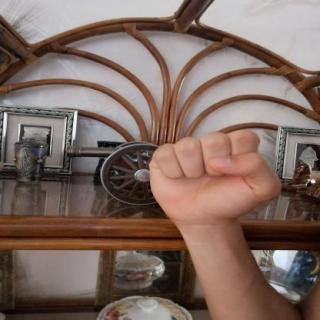SAD: (128, 122, 292, 233)
